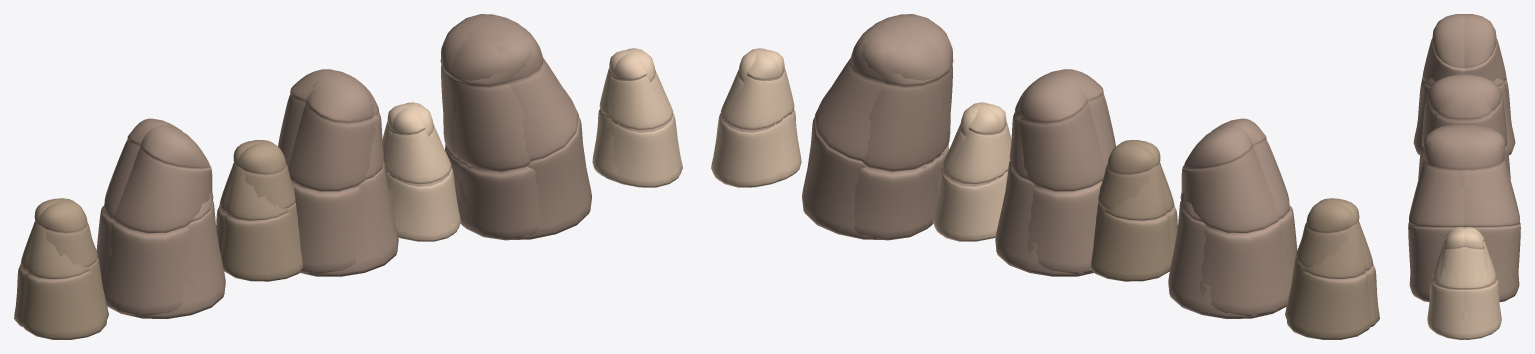
Rendered from newmountain.fbx.
3 views of the same model, side by side, from view 1: azimuth 30°, elevation 25°; view 2: azimuth 150°, elevation 25°; view 3: azimuth 270°, elevation 25° (orthographic). The views are drawn at different scales.
Visible parts, largest first — view 1: Cube.005; view 2: Cube.005; view 3: Cube.005.
Part boxes in pixels (box(x1,y1,x2,y2)): Cube.005: box(14, 14, 682, 339); Cube.005: box(711, 14, 1379, 339); Cube.005: box(1408, 14, 1520, 339).
Bounding box in the file's own units: 8417 × 2419 × 1603.
